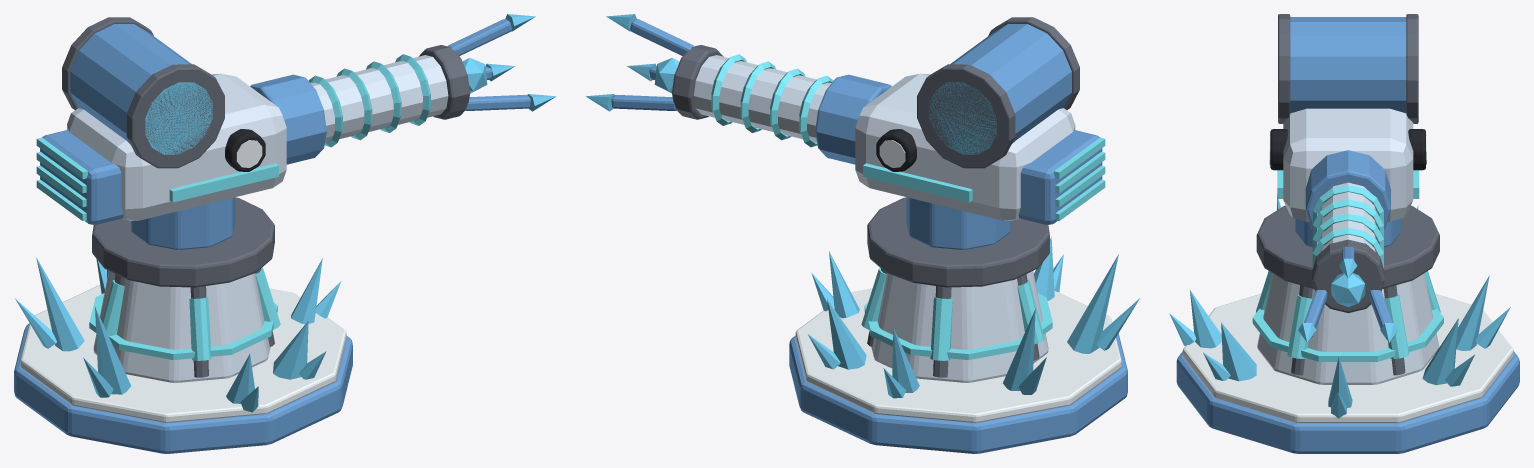
File: torreta_criogenica.glb
The picture shows the model from 3 angles, left to right: view 1: azimuth 30°, elevation 25°; view 2: azimuth 150°, elevation 25°; view 3: azimuth 270°, elevation 25°; orthographic projection.
Visible parts, largest first — view 1: Base, Pivot, Barrel; view 2: Base, Pivot, Barrel; view 3: Base, Pivot, Barrel.
Boxes of the visible parts, x1=… form: Base: x1=14, y1=257, x2=352, y2=453; Pivot: x1=36, y1=17, x2=286, y2=287; Barrel: x1=250, y1=14, x2=556, y2=164; Base: x1=789, y1=237, x2=1139, y2=453; Pivot: x1=855, y1=17, x2=1105, y2=287; Barrel: x1=586, y1=14, x2=891, y2=164; Base: x1=1169, y1=194, x2=1519, y2=453; Pivot: x1=1256, y1=14, x2=1439, y2=288; Barrel: x1=1298, y1=150, x2=1398, y2=342.
Bounding box in the file's own units: 4.28 × 2.89 × 2.64.
Materials: 1 (1 with a texture image).
